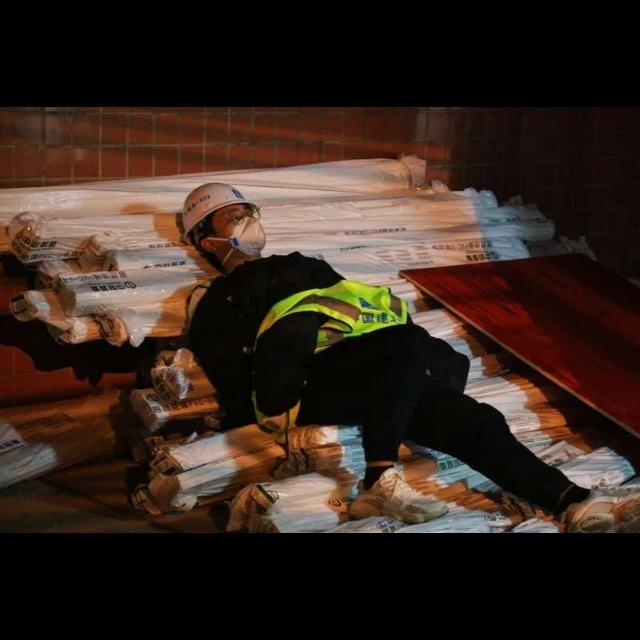masks: (227, 222, 275, 256)
